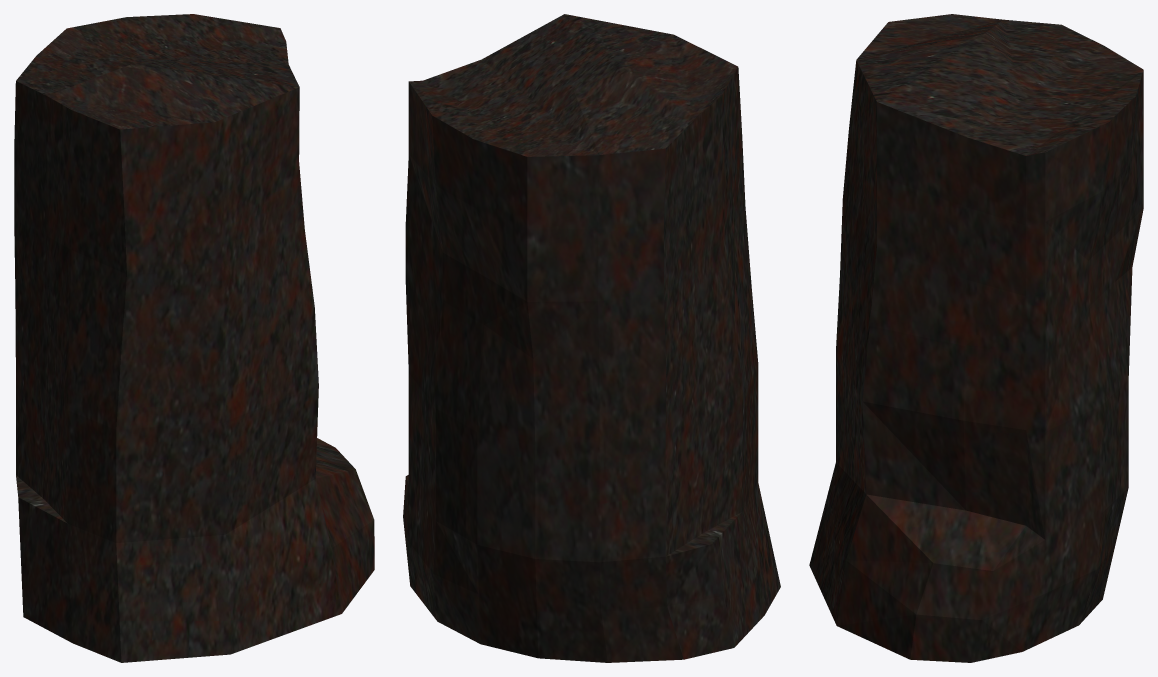
The model's file is rock_small.fbx.
The picture shows the model from 3 angles, left to right: view 1: azimuth 30°, elevation 25°; view 2: azimuth 150°, elevation 25°; view 3: azimuth 270°, elevation 25°; orthographic projection. The views are drawn at different scales.
Parts seen in each view (by area): view 1: Plane001; view 2: Plane001; view 3: Plane001.
Boxes of the visible parts, x1=… form: Plane001: x1=14, y1=14, x2=374, y2=662; Plane001: x1=403, y1=14, x2=780, y2=662; Plane001: x1=809, y1=14, x2=1143, y2=662.
Size of the model in its own units: 12.19 by 19.06 by 11.
